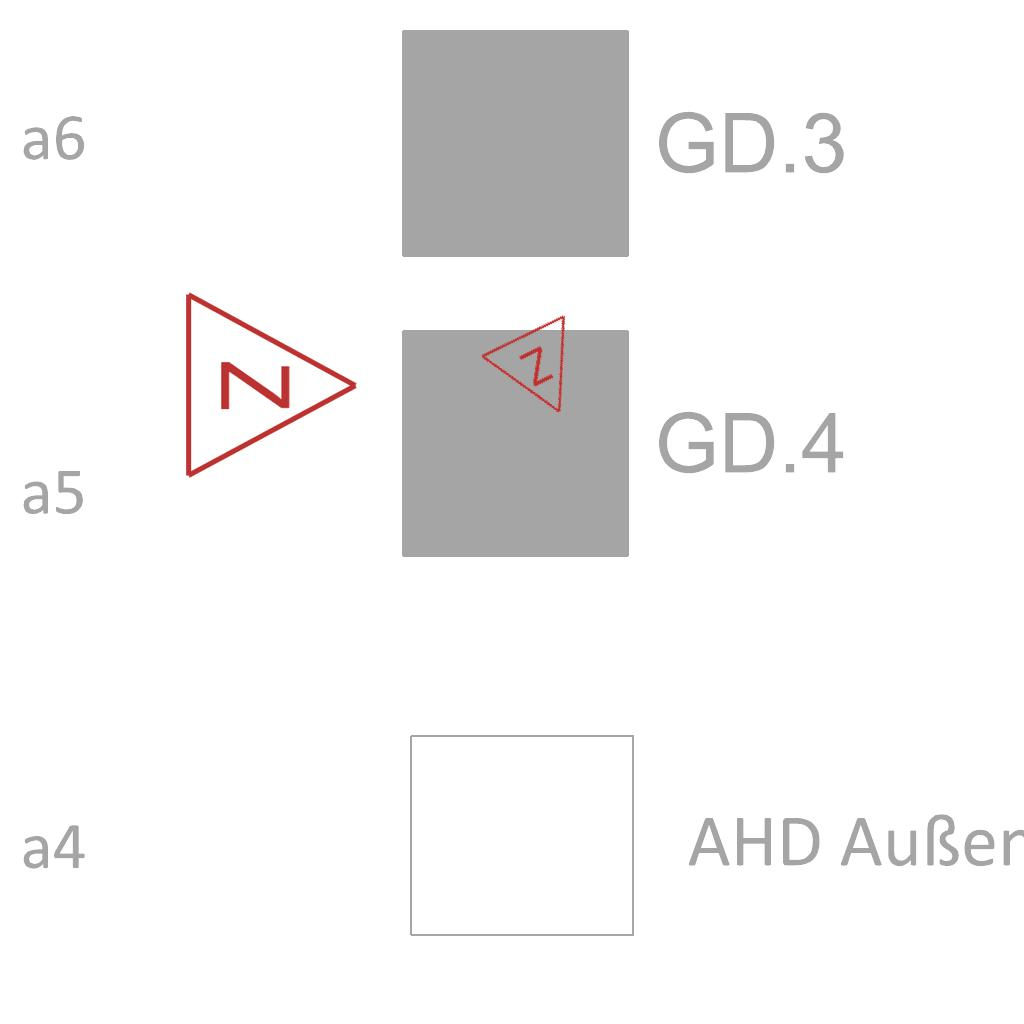Zimmersignalleuchte: (171, 285, 371, 481), (476, 306, 608, 440)
